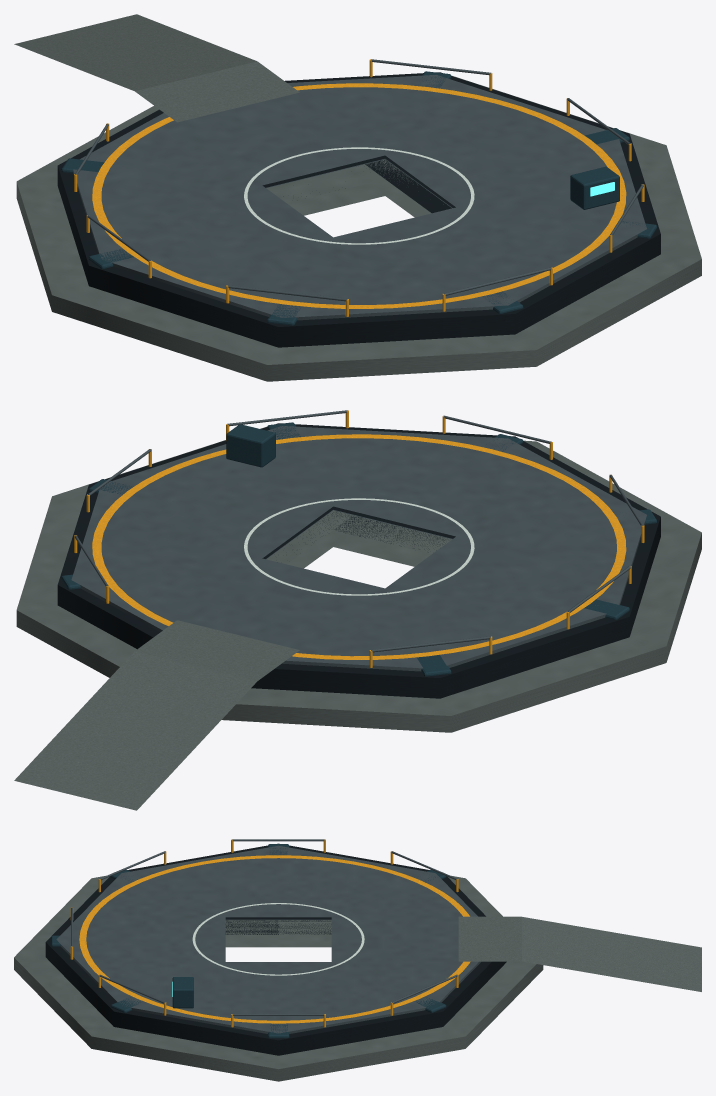
The model's file is Plataforma_E.gltf.
3 views of the same model, one above another, from view 1: azimuth 30°, elevation 25°; view 2: azimuth 150°, elevation 25°; view 3: azimuth 270°, elevation 25° (orthographic). The views are drawn at different scales.
Parts seen in each view (by area): view 1: Plataforma_con_hueco (×6); view 2: Plataforma_con_hueco (×6); view 3: Plataforma_con_hueco (×6).
Part boxes in pixels (x1=…): Plataforma_con_hueco (×6): x1=14, y1=14, x2=701, y2=381; Plataforma_con_hueco (×6): x1=14, y1=410, x2=701, y2=810; Plataforma_con_hueco (×6): x1=14, y1=839, x2=701, y2=1081.
Size of the model in its own units: 50 by 5.15 by 65.
7 materials, 7 textured.
